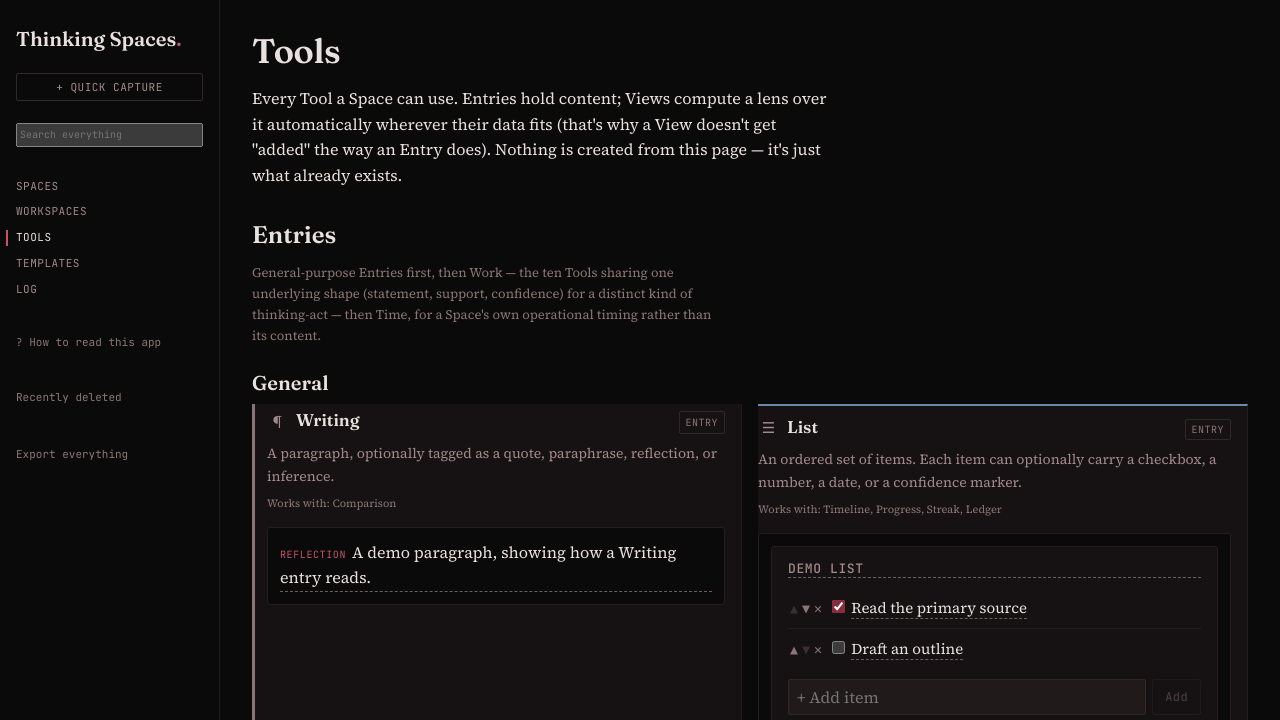
Test case: ToolsPage: interactive demos › opens a Writing demo for editing on click
This screenshot has width=1280, height=720.
Click the text "A demo paragraph".
click(496, 566)  # box [280, 540, 712, 592]
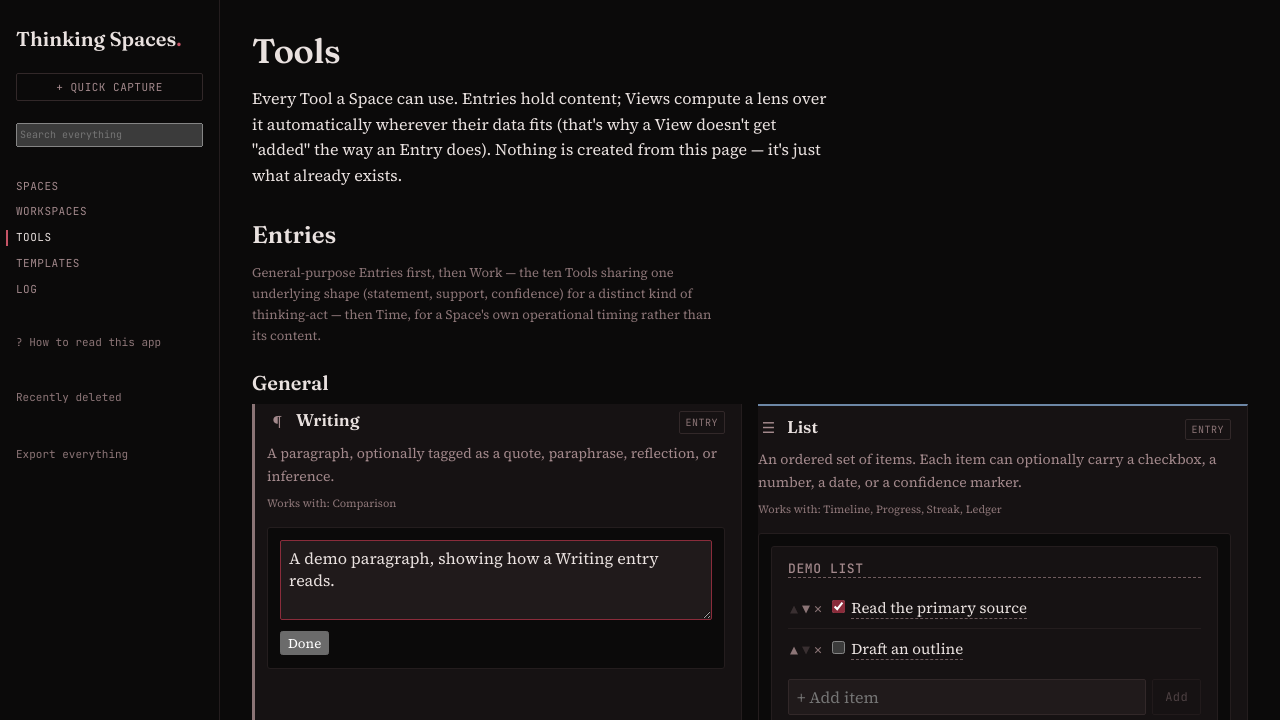
Expected: the text box is shown, [280, 540, 712, 620]
